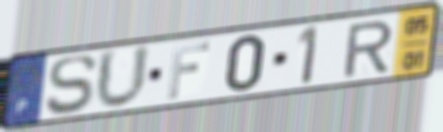0: (222, 33, 268, 94)
1: (295, 23, 320, 86)
F: (165, 40, 213, 101)
R: (340, 18, 395, 80)
S: (44, 53, 100, 118)
U: (93, 42, 153, 112)
